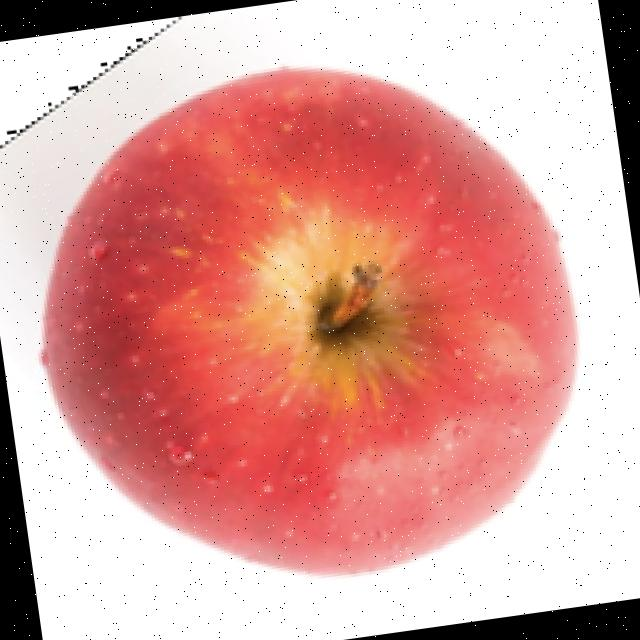apple: (37, 60, 584, 580)
